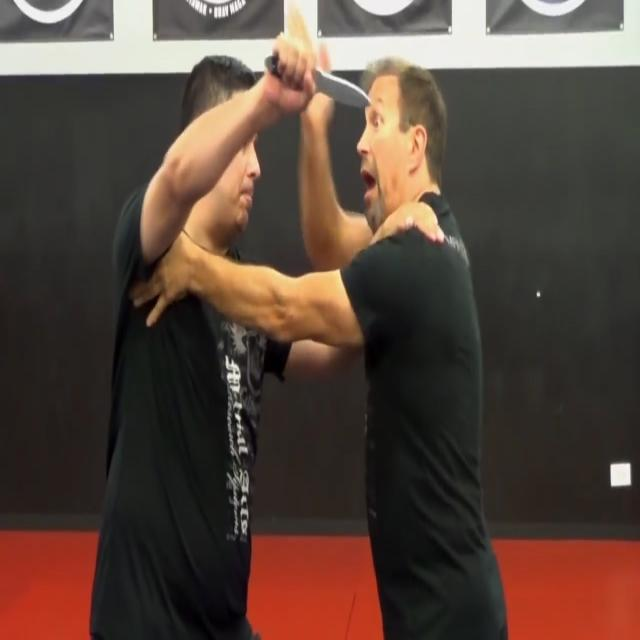knife: (315, 64, 373, 117)
